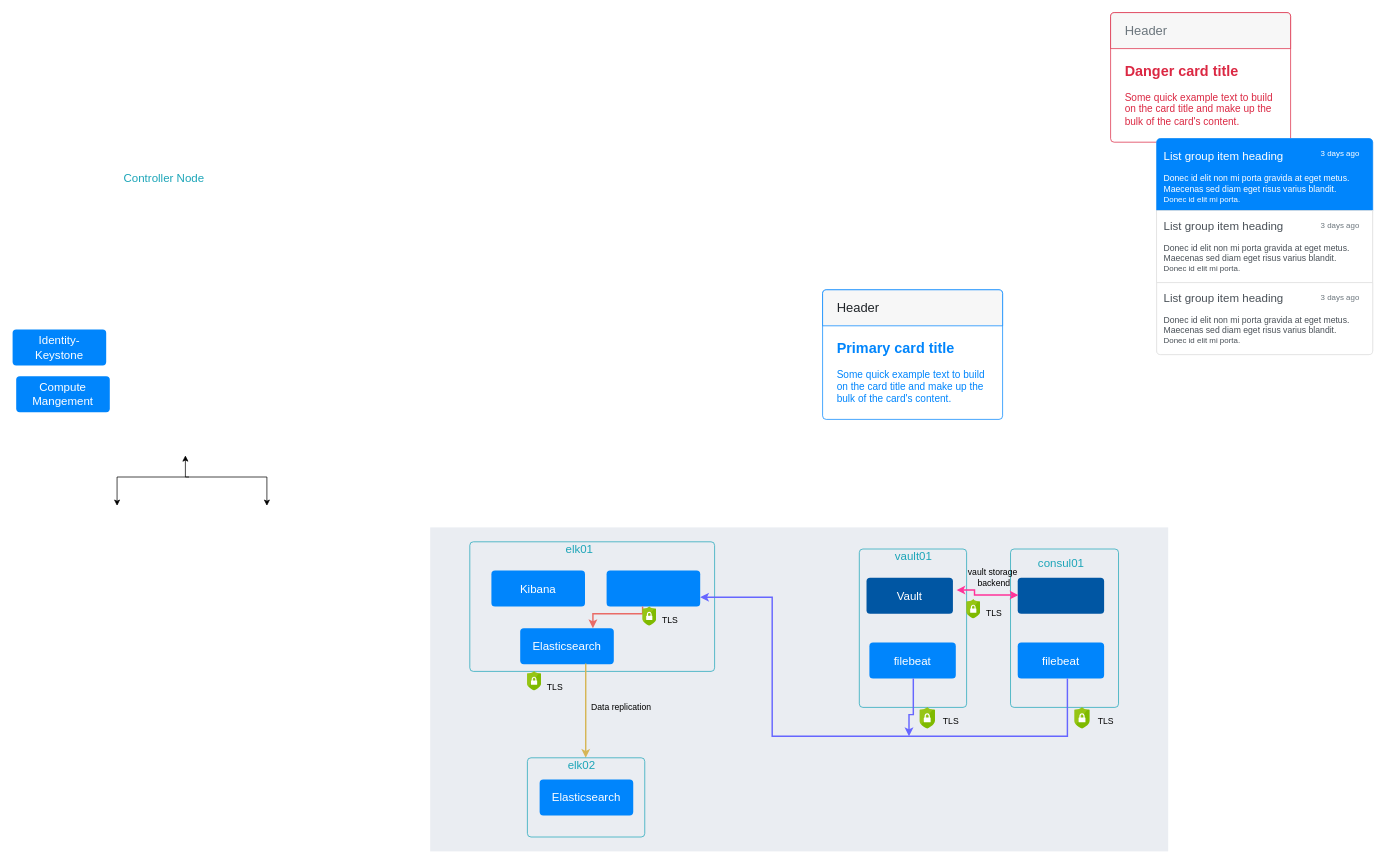
Some shapes in this 1385 by 864 pixel diagram are drawn without their labels. Here are the shapes that lost their labels. From the top down, the centre of each, then its label:
At (x=653, y=588): "logstash".
At (x=1060, y=595): "Consul".
